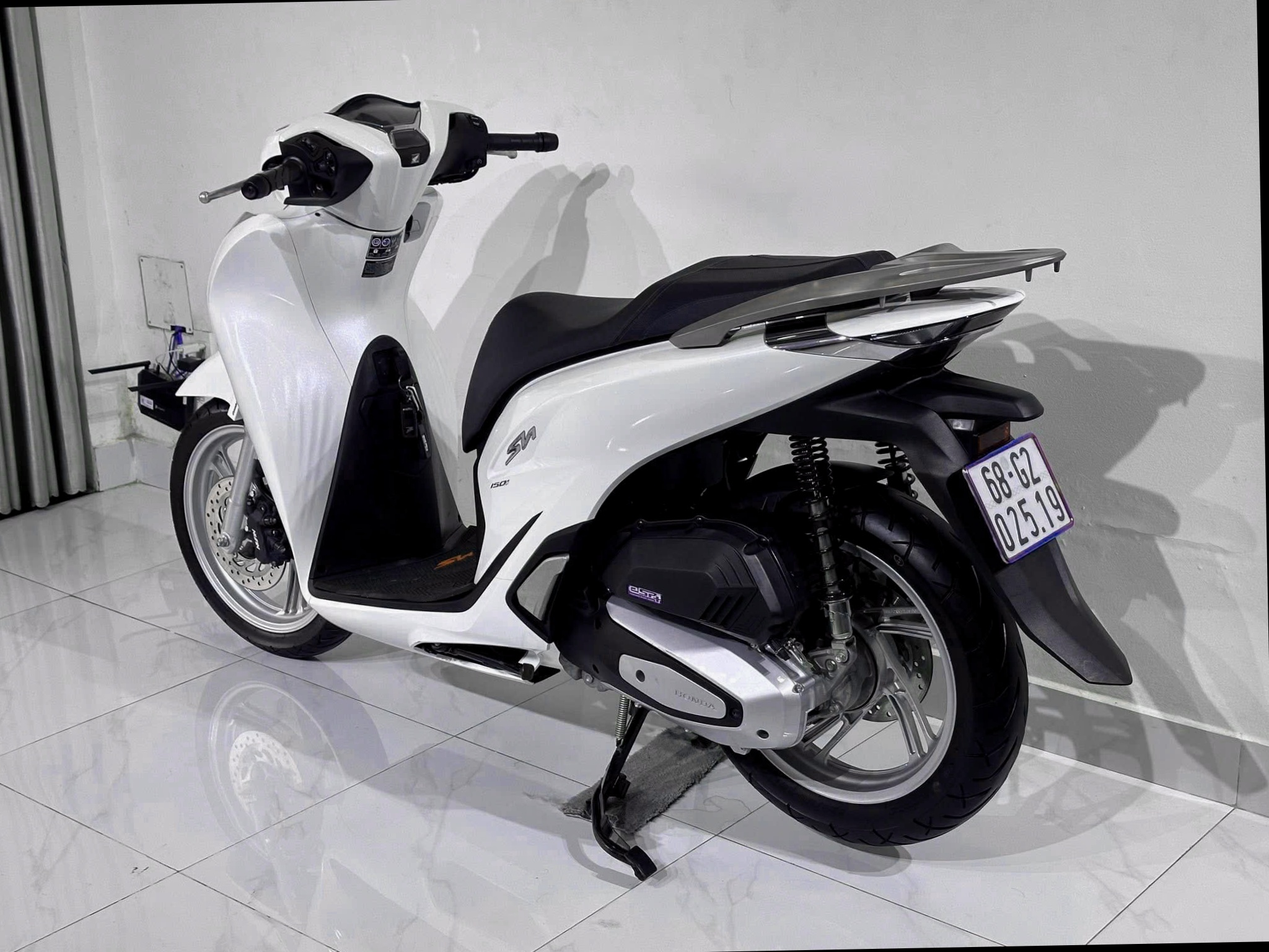Bien-so: (977, 434, 1087, 574)
